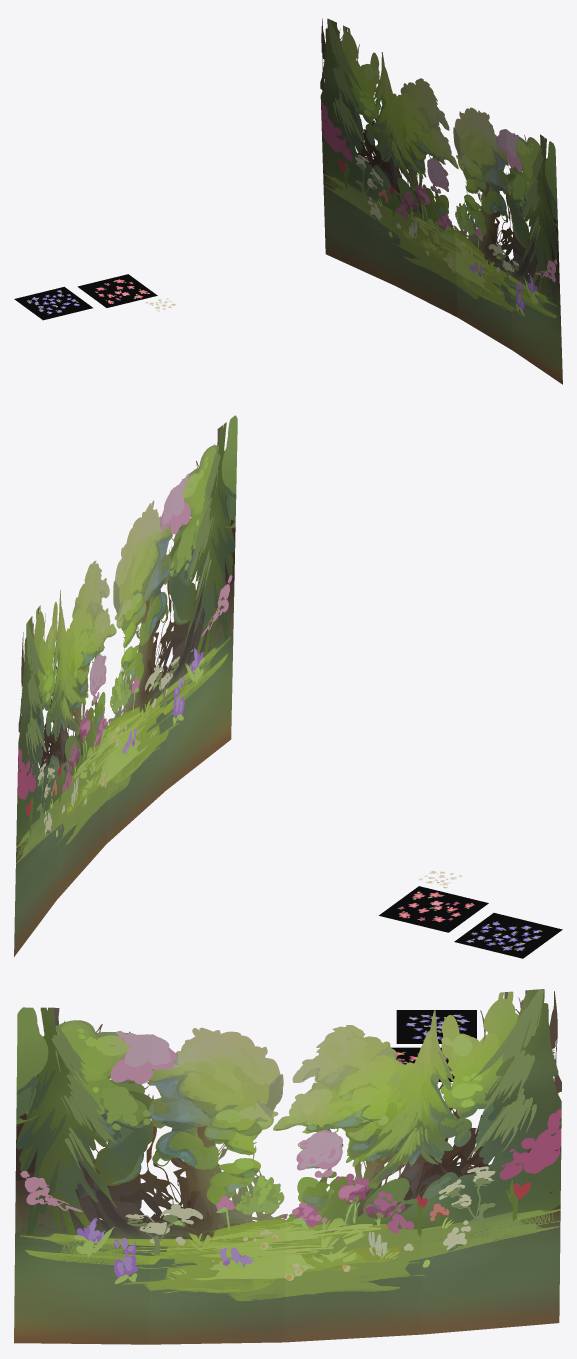
Rendered from SpringDecorationsBackground.fbx.
The picture shows the model from 3 angles, top to bottom: view 1: azimuth 30°, elevation 25°; view 2: azimuth 150°, elevation 25°; view 3: azimuth 270°, elevation 25°; orthographic projection. The views are drawn at different scales.
Visible parts, largest first — view 1: SpringFront, Spring2C, Spring1C; view 2: SpringFront, Spring2C, Spring1C; view 3: SpringFront, Spring1C.
Boxes of the visible parts, x1,y1,x2,y2 form: SpringFront: (320,18,562,384); Spring2C: (77,274,157,307); Spring1C: (14,286,92,320); SpringFront: (14,415,237,956); Spring2C: (379,886,488,932); Spring1C: (454,913,562,958); SpringFront: (14,989,561,1344); Spring1C: (396,1010,476,1043).
Bounding box in the file's own units: 3754 × 2310 × 3400.
Materials: 4 (4 with a texture image).
